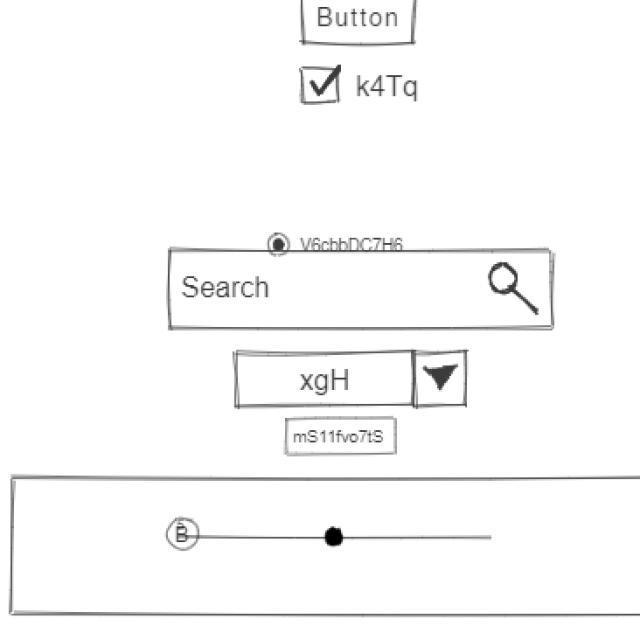button: (297, 1, 421, 48), (282, 413, 399, 459)
checkbox: (298, 63, 426, 111)
container: (6, 470, 640, 624)
icon-button: (166, 514, 204, 555)
radio: (266, 230, 408, 259)
search: (164, 247, 561, 335)
select: (232, 346, 474, 414)
slider: (182, 525, 497, 551)
